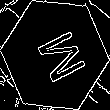M_SW: (25, 23, 85, 87)
